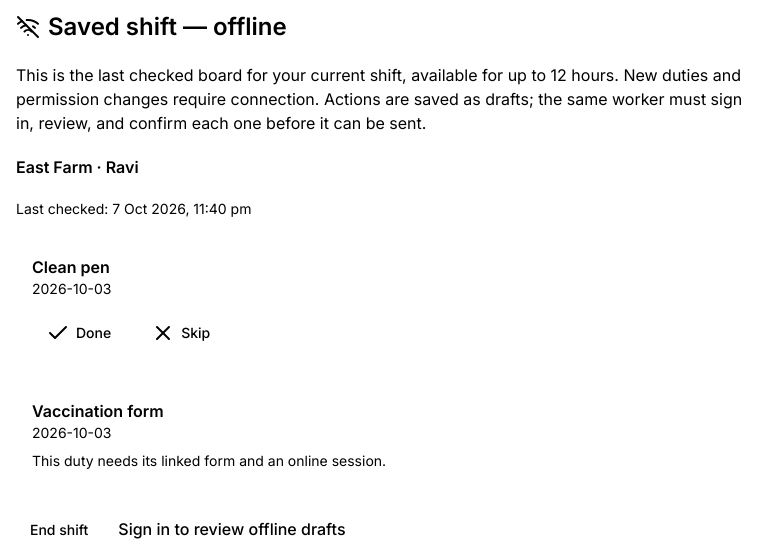
Scenario: refuses an action when the shift ends after the board was displayed
Click the button with test id "offline-complete-41".
click(79, 333)  # box [32, 311, 125, 355]
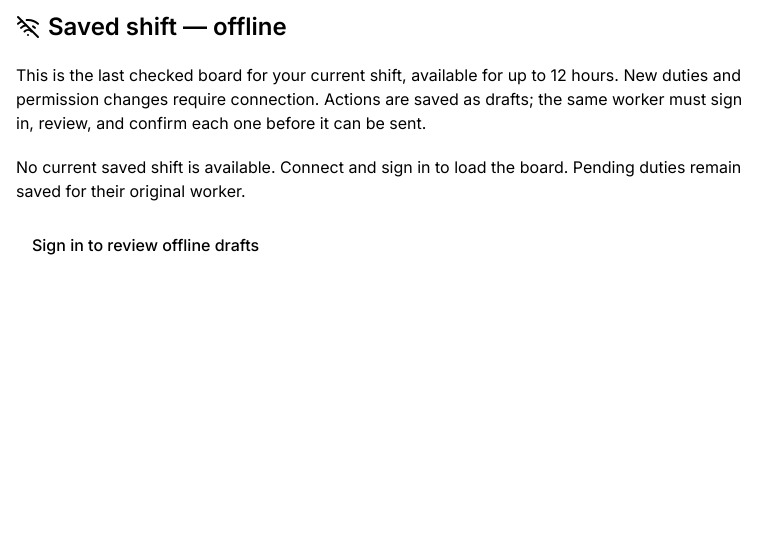
expect the text "No current saved shift is available" is shown: met, box [16, 157, 741, 201]
